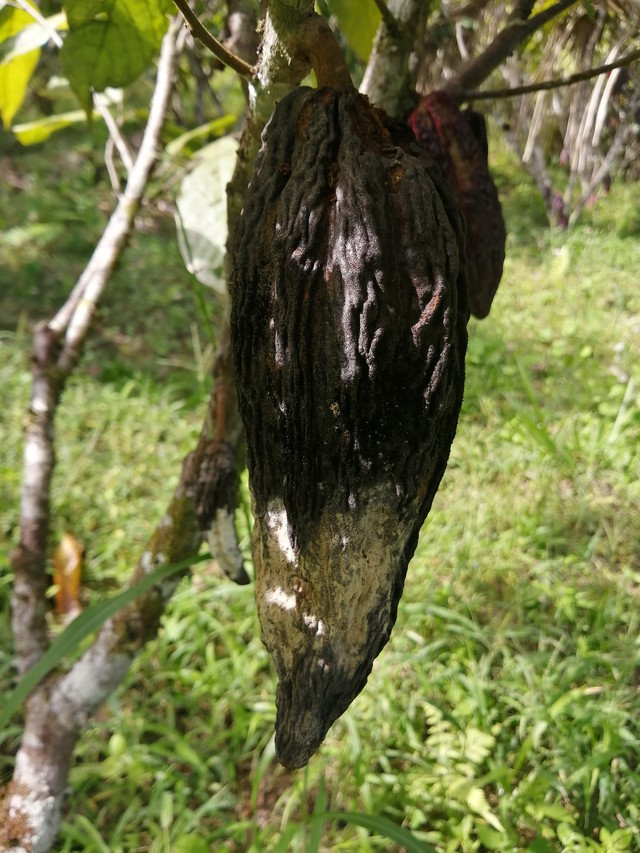moniliophthora roreri: (209, 70, 488, 777)
